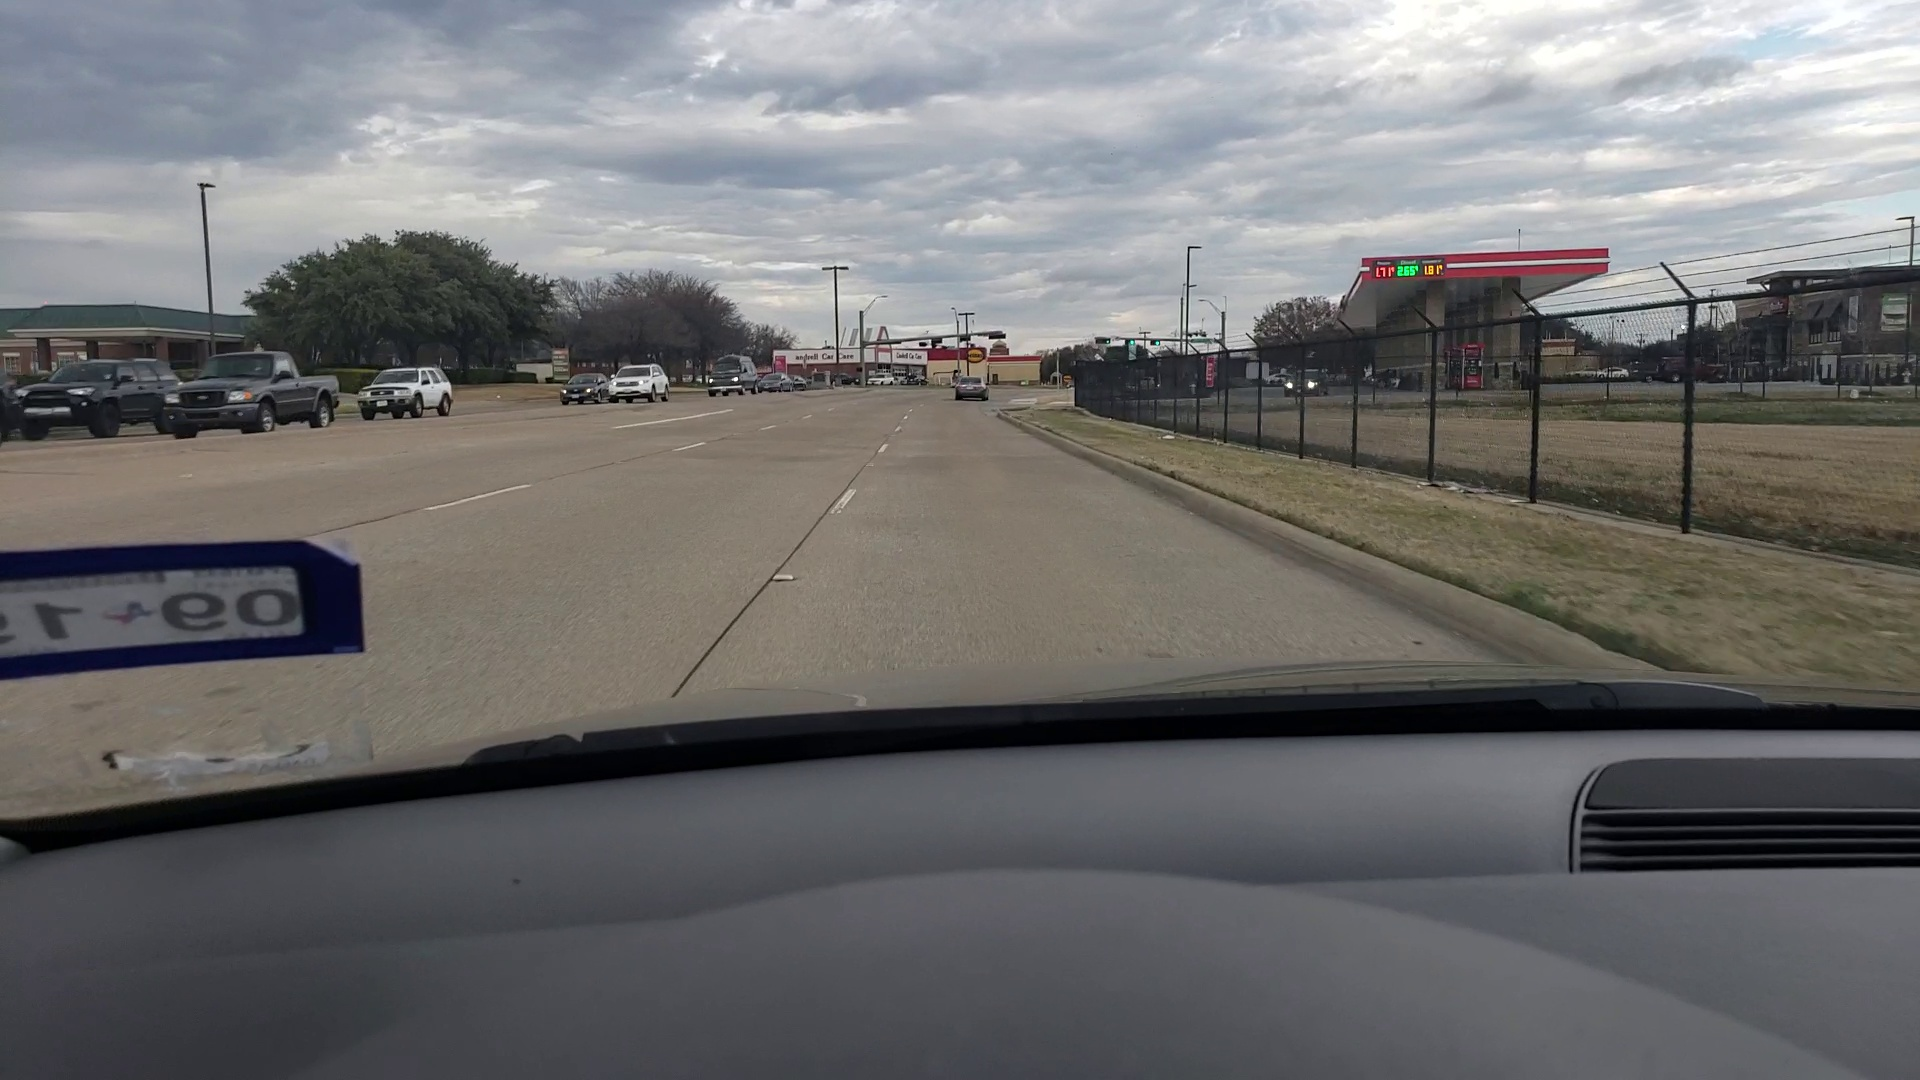car: (361, 367, 455, 421), (702, 353, 762, 396), (613, 367, 671, 402), (560, 371, 611, 404), (1361, 368, 1415, 392), (953, 373, 992, 400), (1282, 375, 1320, 400), (752, 371, 790, 393), (868, 372, 897, 386), (789, 373, 807, 392)
traffic light: (1095, 336, 1112, 344), (1122, 338, 1137, 345), (1150, 338, 1160, 347)
truck: (170, 352, 340, 433), (24, 357, 181, 435)
